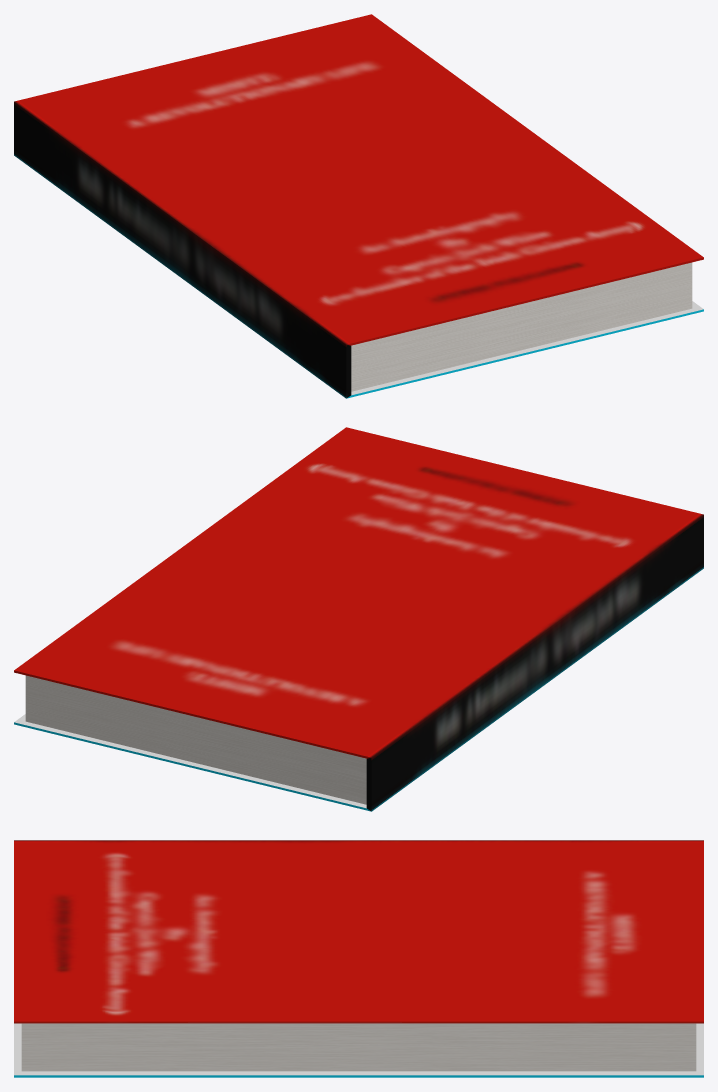
File: book_07.fbx
The picture shows the model from 3 angles, top to bottom: view 1: azimuth 30°, elevation 25°; view 2: azimuth 150°, elevation 25°; view 3: azimuth 270°, elevation 25°; orthographic projection. The views are drawn at different scales.
Visible parts, largest first — view 1: book_07; view 2: book_07; view 3: book_07.
Boxes of the visible parts, box(x1,y1,x2,y2) form: book_07: box(14, 14, 703, 398); book_07: box(14, 427, 703, 811); book_07: box(14, 840, 703, 1077).
Bounding box in the file's own units: 0.1794 × 0.0259 × 0.2886.
1 material, 1 textured.
